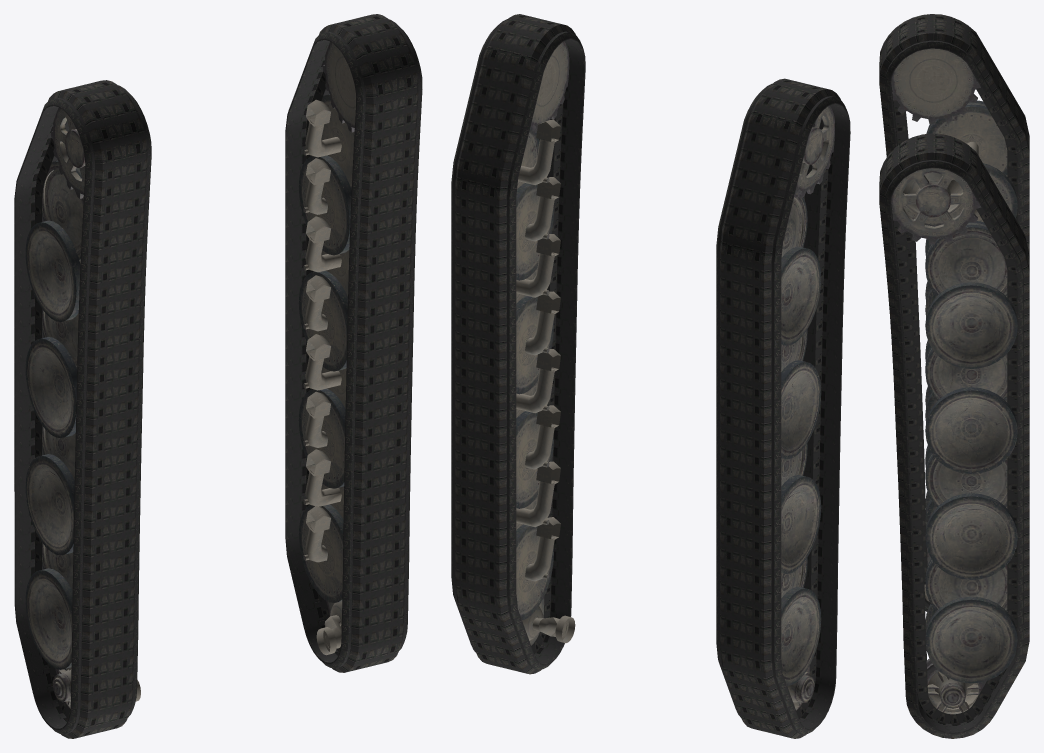
File: Chassis.glb
3 views of the same model, side by side, from view 1: azimuth 30°, elevation 25°; view 2: azimuth 150°, elevation 25°; view 3: azimuth 270°, elevation 25° (orthographic). The views are drawn at different scales.
Parts seen in each view (by area): view 1: set_0_group_0, set_1_group_0, set_3_group_0, set_2_group_0; view 2: set_0_group_0, set_1_group_0, set_3_group_0, set_2_group_0; view 3: set_3_group_0, set_1_group_0, set_0_group_0, set_2_group_0.
Part boxes in pixels (box(x1,y1,x2,y2)): set_0_group_0: box(14, 80, 151, 738); set_1_group_0: box(285, 14, 422, 672); set_3_group_0: box(298, 41, 355, 655); set_2_group_0: box(25, 107, 140, 708); set_0_group_0: box(716, 78, 850, 738); set_1_group_0: box(451, 14, 585, 674); set_3_group_0: box(516, 41, 575, 645); set_2_group_0: box(781, 105, 834, 710); set_3_group_0: box(891, 168, 1017, 714); set_1_group_0: box(879, 133, 1029, 738); set_0_group_0: box(879, 14, 1029, 611); set_2_group_0: box(891, 48, 1017, 601).
Size of the model in its own units: 3.4 by 6.27 by 1.46.
4 materials, 4 textured.
